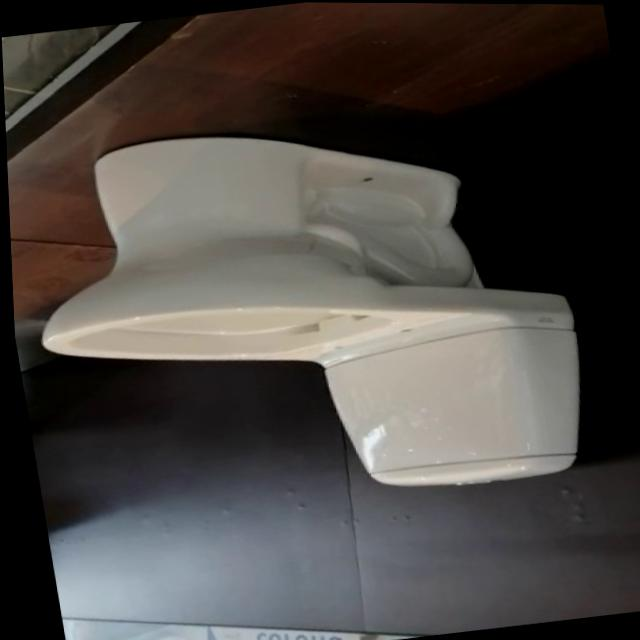toilet: (4, 92, 599, 535)
